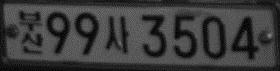0: (202, 14, 226, 60)
3: (141, 13, 167, 57)
4: (231, 16, 259, 60)
5: (172, 14, 198, 58)
9: (74, 11, 99, 54), (46, 10, 70, 54)
부산_V: (19, 10, 43, 55)
사: (104, 15, 129, 54)
